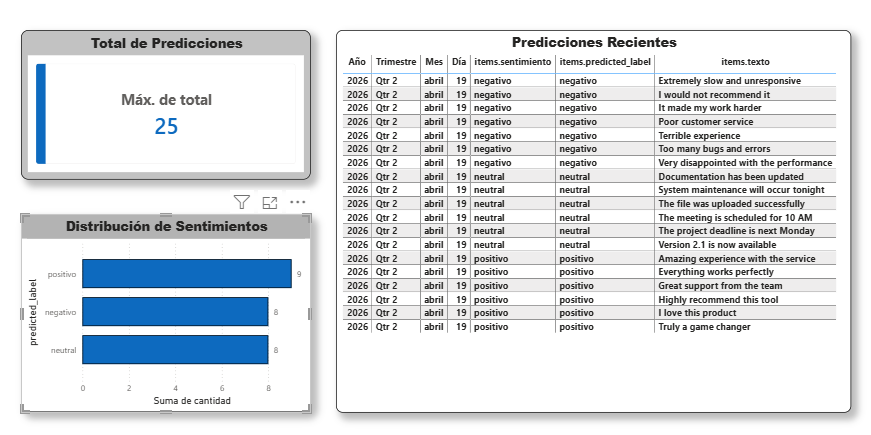

The page's visual inventory and layout, read from the dashboard file:
{"tool":"powerbi","page":{"name":"Página 1","canvas":[1280,720],"ordinal":0},"visuals":[{"type":"cardVisual","title":"Total de Predicciones","fields":{"Data":["Max(stats.total)"]},"box":[33.9,79.2,424.2,218.7],"z":0},{"type":"barChart","title":"Distribución de Sentimientos","fields":{"Category":["stats.predicted_label"],"Y":["Sum(stats.cantidad)"]},"box":[33.9,348.7,424.2,290.3],"z":1},{"type":"tableEx","title":"Predicciones Recientes","fields":{"Values":["sentiments.items.event_time.Variación.Jerarquía de fechas.Año","sentiments.items.event_time.Variación.Jerarquía de fechas.Trimestre","sentiments.items.event_time.Variación.Jerarquía de fechas.Mes","sentiments.items.event_time.Variación.Jerarquía de fechas.Día","sentiments.items.sentimiento","sentiments.items.predicted_label","sentiments.items.texto"]},"box":[493.9,79.2,754.1,559.9],"z":2}]}

Visuals, with their boxes on the page's 1280x720 design canvas (x1, y1, x2, y2). These are canvas units, not pixel positions in the 871x435 screenshot, which may show the page scaled, cropped or inside an application window:
"Total de Predicciones" cardVisual: Rect(34, 79, 458, 298)
"Distribución de Sentimientos" barChart: Rect(34, 349, 458, 639)
"Predicciones Recientes" tableEx: Rect(494, 79, 1248, 639)
